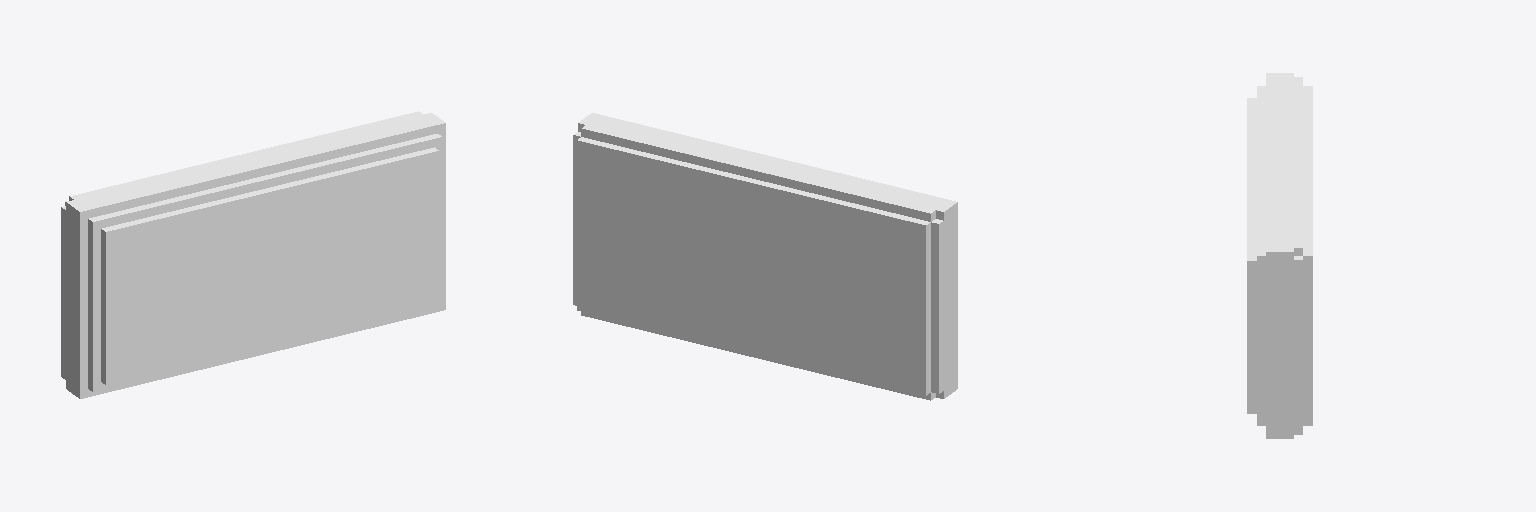
Rendered from plague.obj.
The picture shows the model from 3 angles: view 1: azimuth 30°, elevation 25°; view 2: azimuth 150°, elevation 25°; view 3: azimuth 270°, elevation 25°; orthographic projection.
Bounding box in the file's own units: 45 × 22 × 7.